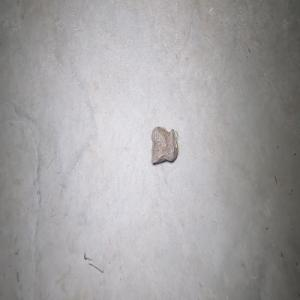Rock: (150, 123, 178, 163)
